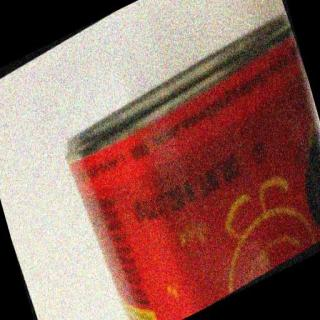METAL: (68, 13, 320, 320)
